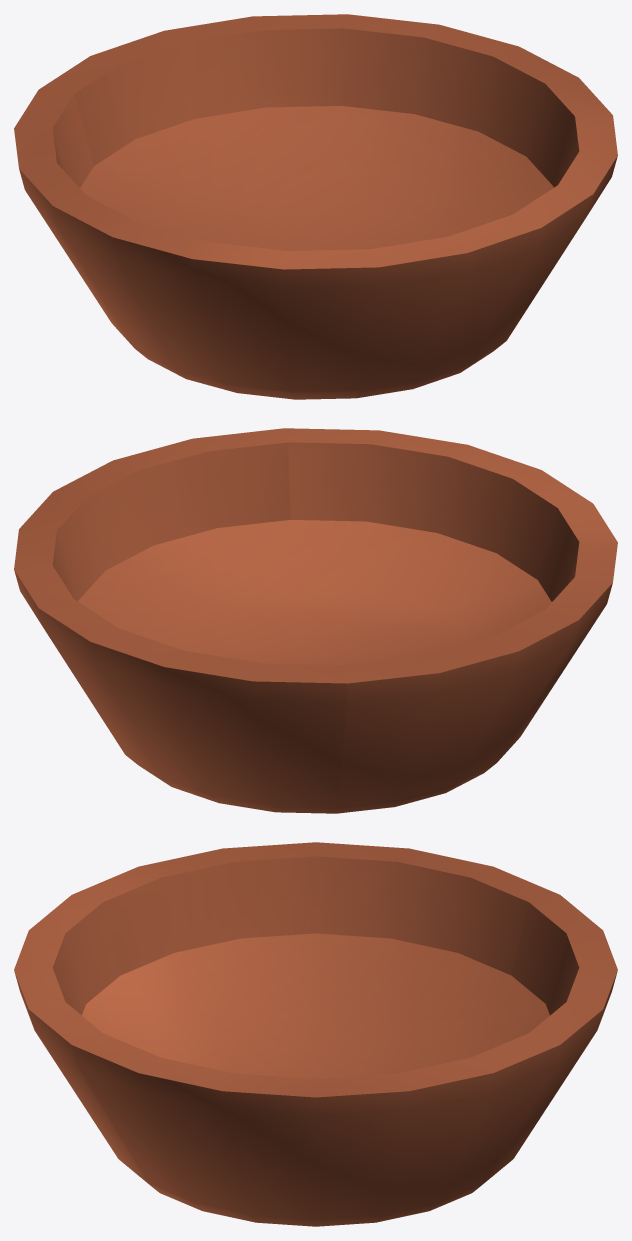
File: cachelos_bowl.glb
The picture shows the model from 3 angles, top to bottom: view 1: azimuth 30°, elevation 25°; view 2: azimuth 150°, elevation 25°; view 3: azimuth 270°, elevation 25°; orthographic projection.
Parts seen in each view (by area): view 1: bowl; view 2: bowl; view 3: bowl.
Part boxes in pixels (box(x1,y1,x2,y2)): bowl: box(14, 14, 617, 399); bowl: box(14, 428, 617, 813); bowl: box(14, 842, 617, 1226).
Size of the model in its own units: 0.5 by 0.162 by 0.5.
Materials: 1 (1 with a texture image).
